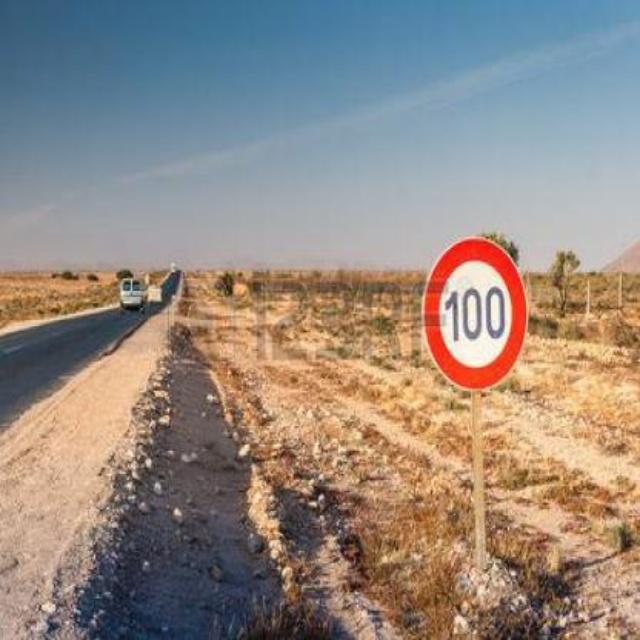Tốc độ tối đa cho phép 100km/h: (426, 239, 525, 387)
